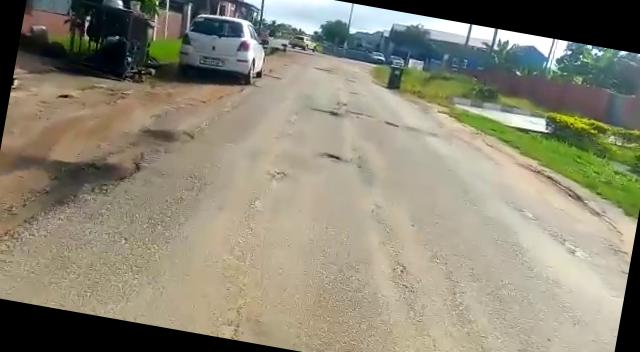pothole: (318, 150, 350, 164)
